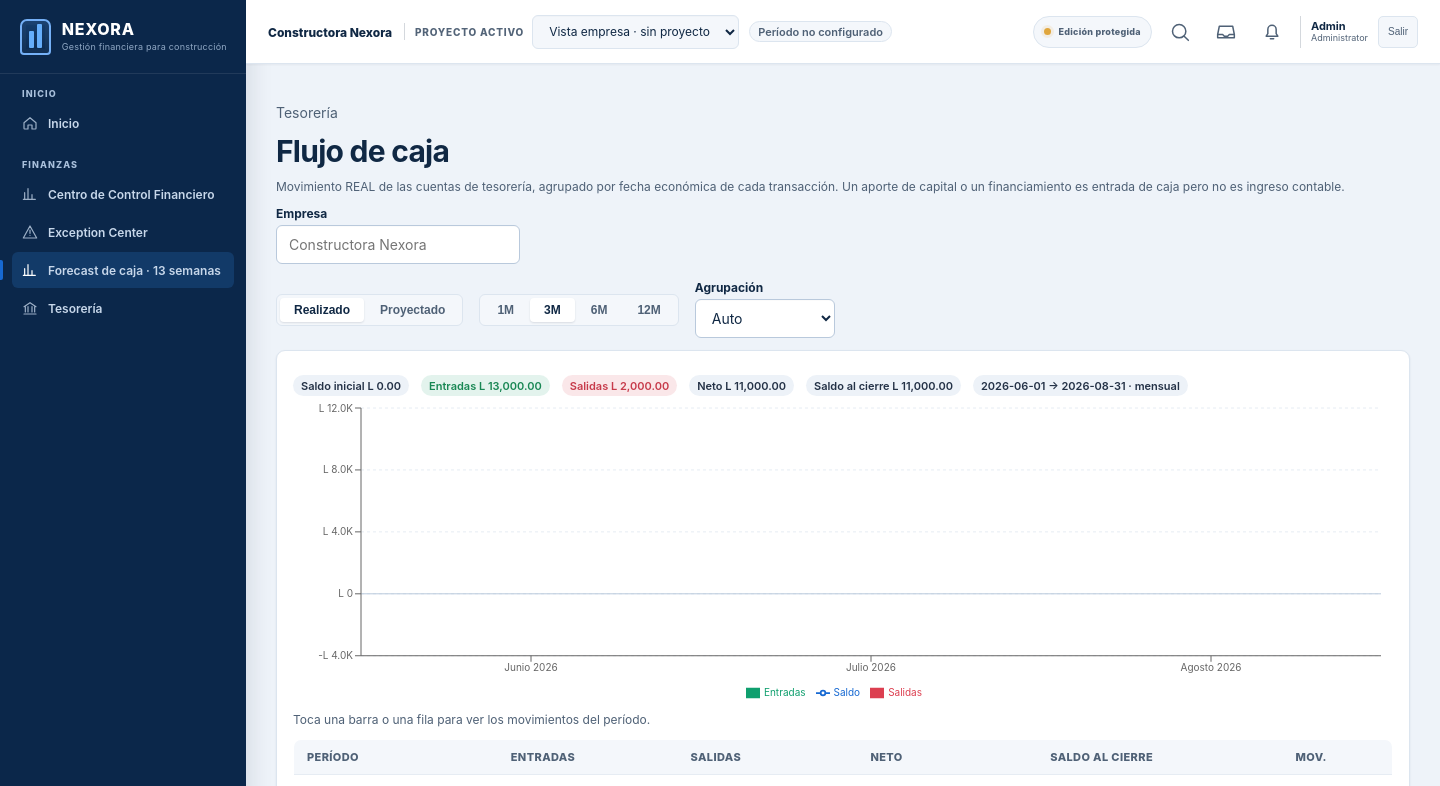
Test: CashForecastPage › shows the projected forecast with a liquidity alert when switched to Proyectado
Click the tab "Proyectado" at [413, 310], box [366,298,459,322]
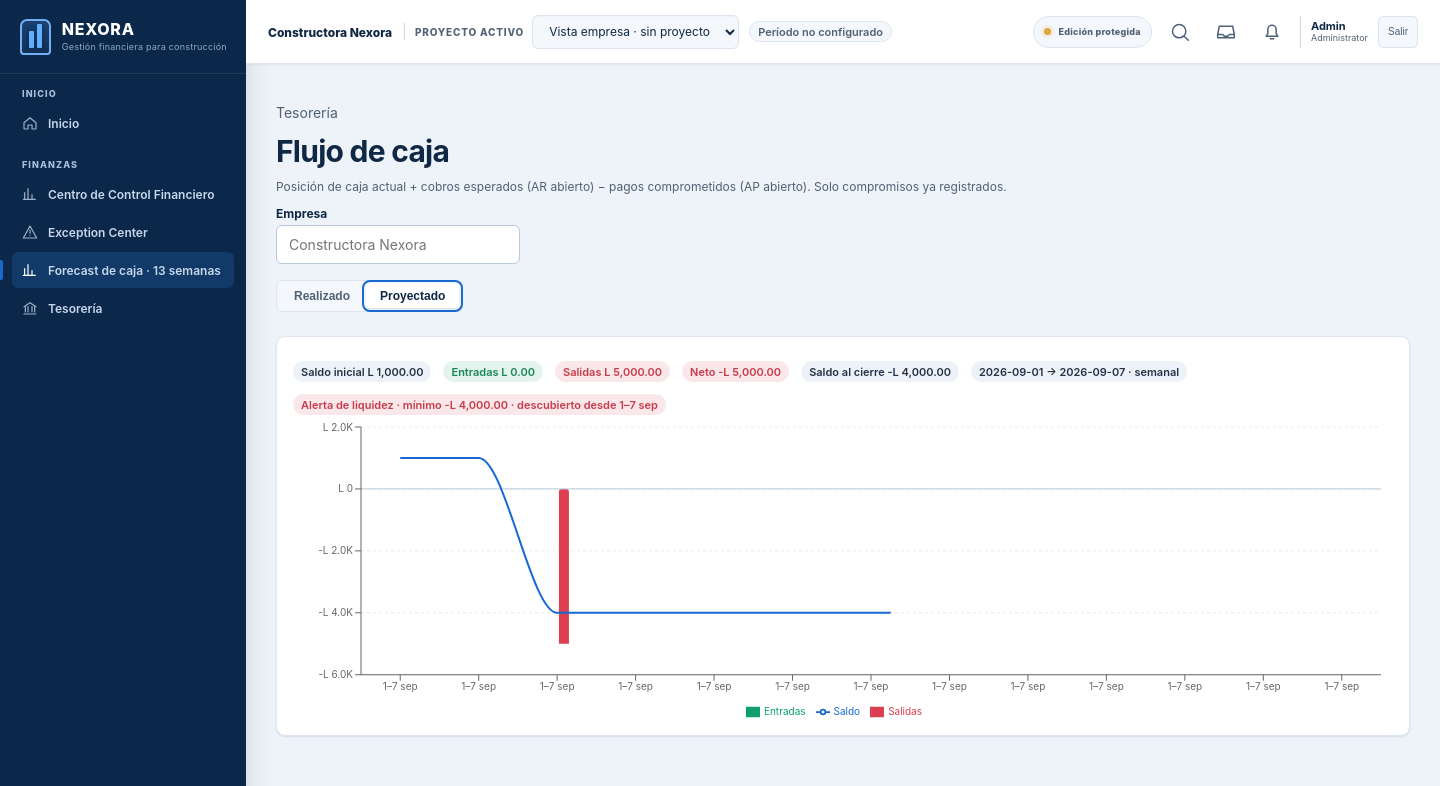
expect the text "Alerta de liquidez" is shown: met, box [301,398,445,412]
expect the text "Alerta de liquidez" shows "sep": met, box [508,398,658,412]
